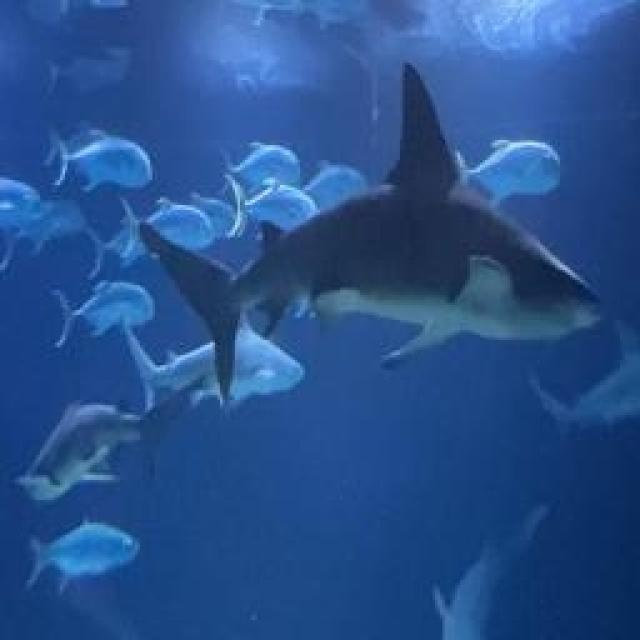fish: (10, 408, 150, 508), (25, 518, 136, 588), (456, 138, 562, 207), (0, 185, 88, 263), (48, 128, 154, 192), (52, 280, 156, 342), (223, 180, 315, 236), (130, 197, 218, 255), (222, 142, 302, 194)
shark: (196, 63, 598, 384), (532, 335, 638, 440), (272, 405, 378, 505), (85, 202, 179, 276)
